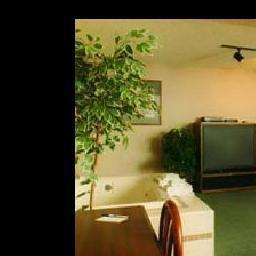Electrodomestico: (199, 122, 256, 193)
Matera: (80, 27, 147, 212)
